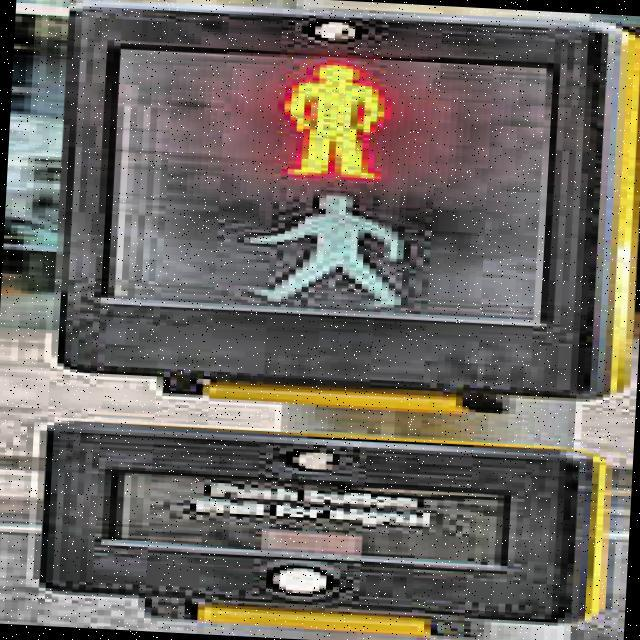red_light: (276, 59, 402, 186)
